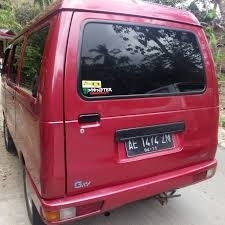plate: (122, 134, 175, 154)
